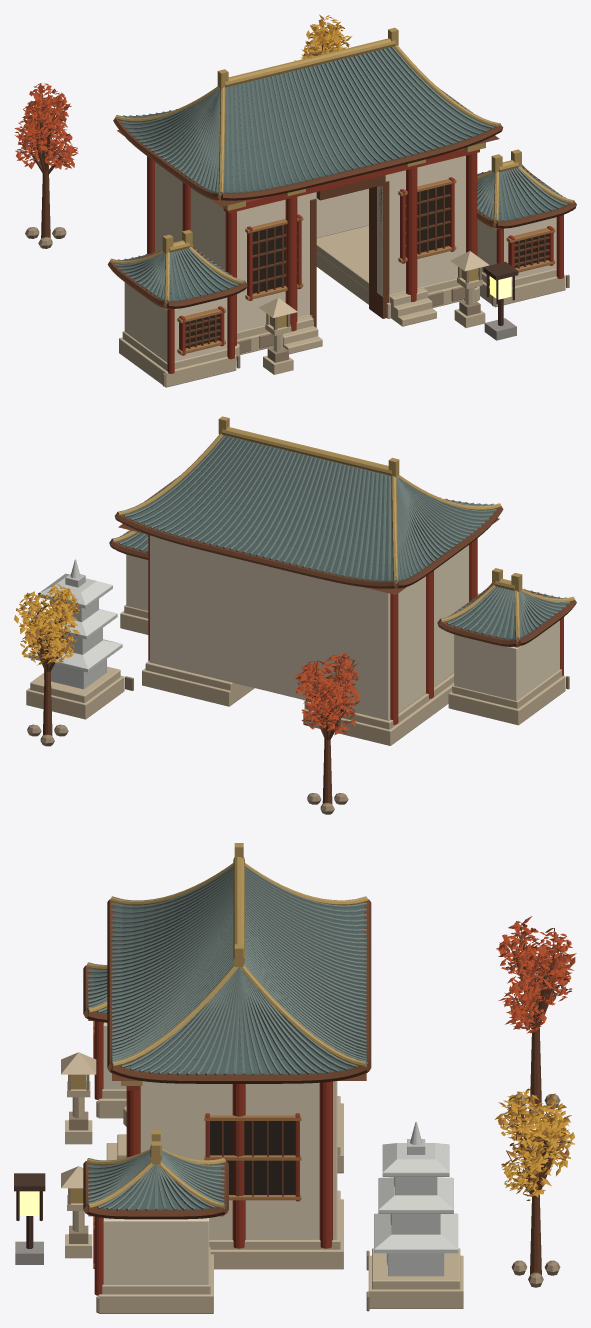
The model's file is geumseong.glb.
The picture shows the model from 3 angles, top to bottom: view 1: azimuth 30°, elevation 25°; view 2: azimuth 150°, elevation 25°; view 3: azimuth 270°, elevation 25°; orthographic projection. The views are drawn at different scales.
Visible parts, largest first — view 1: geumseong__B03R2_geumseong_TileEdge, geumseong__B03R2_geumseong_Plaster, geumseong__B03R2_geumseong_Roof, geumseong__B03R2_geumseong_Wood, geumseong__B03R2_geumseong_Stone, geumseong__B03R2_geumseong_Vermilion, geumseong__B03R2_geumseong_Gold, geumseong__B03R2_geumseong_Dark, geumseong__B03R2_geumseong_LeafRed, geumseong__B03R2_geumseong_StoneShade, geumseong__B03R2_geumseong_WoodLight, geumseong__B03R2_geumseong_LeafRedShade (+4 smaller); view 2: geumseong__B03R2_geumseong_Plaster, geumseong__B03R2_geumseong_TileEdge, geumseong__B03R2_geumseong_Roof, geumseong__B03R2_geumseong_Stone, geumseong__B03R2_geumseong_Wood, geumseong__B03R2_geumseong_Gold, geumseong__B03R2_geumseong_TowerStoneTop, geumseong__B03R2_geumseong_Vermilion, geumseong__B03R2_geumseong_LeafRed, geumseong__B03R2_geumseong_LeafGold, geumseong__B03R2_geumseong_TowerStone, geumseong__B03R2_geumseong_LeafRedShade (+2 smaller); view 3: geumseong__B03R2_geumseong_TileEdge, geumseong__B03R2_geumseong_Plaster, geumseong__B03R2_geumseong_Stone, geumseong__B03R2_geumseong_Wood, geumseong__B03R2_geumseong_Roof, geumseong__B03R2_geumseong_Vermilion, geumseong__B03R2_geumseong_Gold, geumseong__B03R2_geumseong_TowerStoneTop, geumseong__B03R2_geumseong_Dark, geumseong__B03R2_geumseong_LeafRed, geumseong__B03R2_geumseong_LeafGold, geumseong__B03R2_geumseong_TowerStone (+6 smaller).
Part boxes in pixels (bbox=[...]): geumseong__B03R2_geumseong_TileEdge: bbox=[111, 47, 573, 301]; geumseong__B03R2_geumseong_Plaster: bbox=[124, 155, 556, 362]; geumseong__B03R2_geumseong_Roof: bbox=[118, 47, 568, 302]; geumseong__B03R2_geumseong_Wood: bbox=[20, 29, 576, 348]; geumseong__B03R2_geumseong_Stone: bbox=[119, 225, 565, 387]; geumseong__B03R2_geumseong_Vermilion: bbox=[147, 148, 563, 373]; geumseong__B03R2_geumseong_Gold: bbox=[110, 27, 574, 328]; geumseong__B03R2_geumseong_Dark: bbox=[185, 185, 547, 347]; geumseong__B03R2_geumseong_LeafRed: bbox=[14, 83, 78, 169]; geumseong__B03R2_geumseong_StoneShade: bbox=[25, 227, 569, 386]; geumseong__B03R2_geumseong_WoodLight: bbox=[177, 178, 555, 354]; geumseong__B03R2_geumseong_LeafRedShade: bbox=[18, 83, 74, 168]; geumseong__B03R2_geumseong_Plaster: bbox=[126, 535, 559, 720]; geumseong__B03R2_geumseong_TileEdge: bbox=[112, 435, 573, 639]; geumseong__B03R2_geumseong_Roof: bbox=[117, 436, 565, 640]; geumseong__B03R2_geumseong_Stone: bbox=[26, 593, 565, 745]; geumseong__B03R2_geumseong_Wood: bbox=[23, 477, 576, 804]; geumseong__B03R2_geumseong_Gold: bbox=[111, 416, 574, 641]; geumseong__B03R2_geumseong_TowerStoneTop: bbox=[28, 559, 122, 672]; geumseong__B03R2_geumseong_Vermilion: bbox=[148, 535, 563, 724]; geumseong__B03R2_geumseong_LeafRed: bbox=[294, 653, 360, 735]; geumseong__B03R2_geumseong_LeafGold: bbox=[14, 584, 79, 665]; geumseong__B03R2_geumseong_TowerStone: bbox=[44, 573, 106, 689]; geumseong__B03R2_geumseong_LeafRedShade: bbox=[295, 656, 360, 733]; geumseong__B03R2_geumseong_TileEdge: bbox=[87, 866, 367, 1210]; geumseong__B03R2_geumseong_Plaster: bbox=[103, 1022, 337, 1284]; geumseong__B03R2_geumseong_Stone: bbox=[61, 1052, 463, 1313]; geumseong__B03R2_geumseong_Wood: bbox=[83, 899, 572, 1274]; geumseong__B03R2_geumseong_Roof: bbox=[90, 897, 363, 1209]; geumseong__B03R2_geumseong_Vermilion: bbox=[93, 1021, 332, 1295]; geumseong__B03R2_geumseong_Gold: bbox=[71, 843, 367, 1209]; geumseong__B03R2_geumseong_TowerStoneTop: bbox=[374, 1122, 458, 1253]; geumseong__B03R2_geumseong_Dark: bbox=[210, 1121, 295, 1194]; geumseong__B03R2_geumseong_LeafRed: bbox=[496, 916, 576, 1033]; geumseong__B03R2_geumseong_LeafGold: bbox=[494, 1088, 574, 1200]; geumseong__B03R2_geumseong_TowerStone: bbox=[386, 1139, 444, 1276].
Size of the model in its own units: 4.27 by 2.43 by 4.14.
